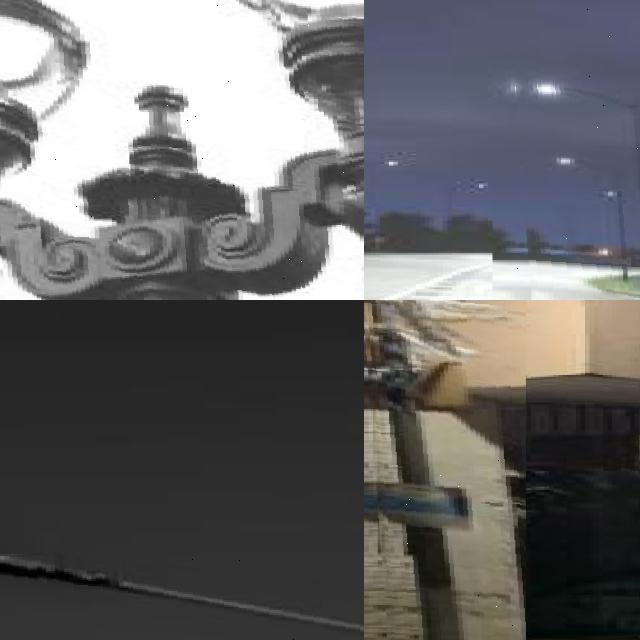street light: (0, 0, 364, 300), (364, 300, 526, 640), (493, 0, 640, 300), (0, 552, 364, 640), (515, 82, 621, 276), (364, 160, 398, 249), (447, 181, 488, 247)
